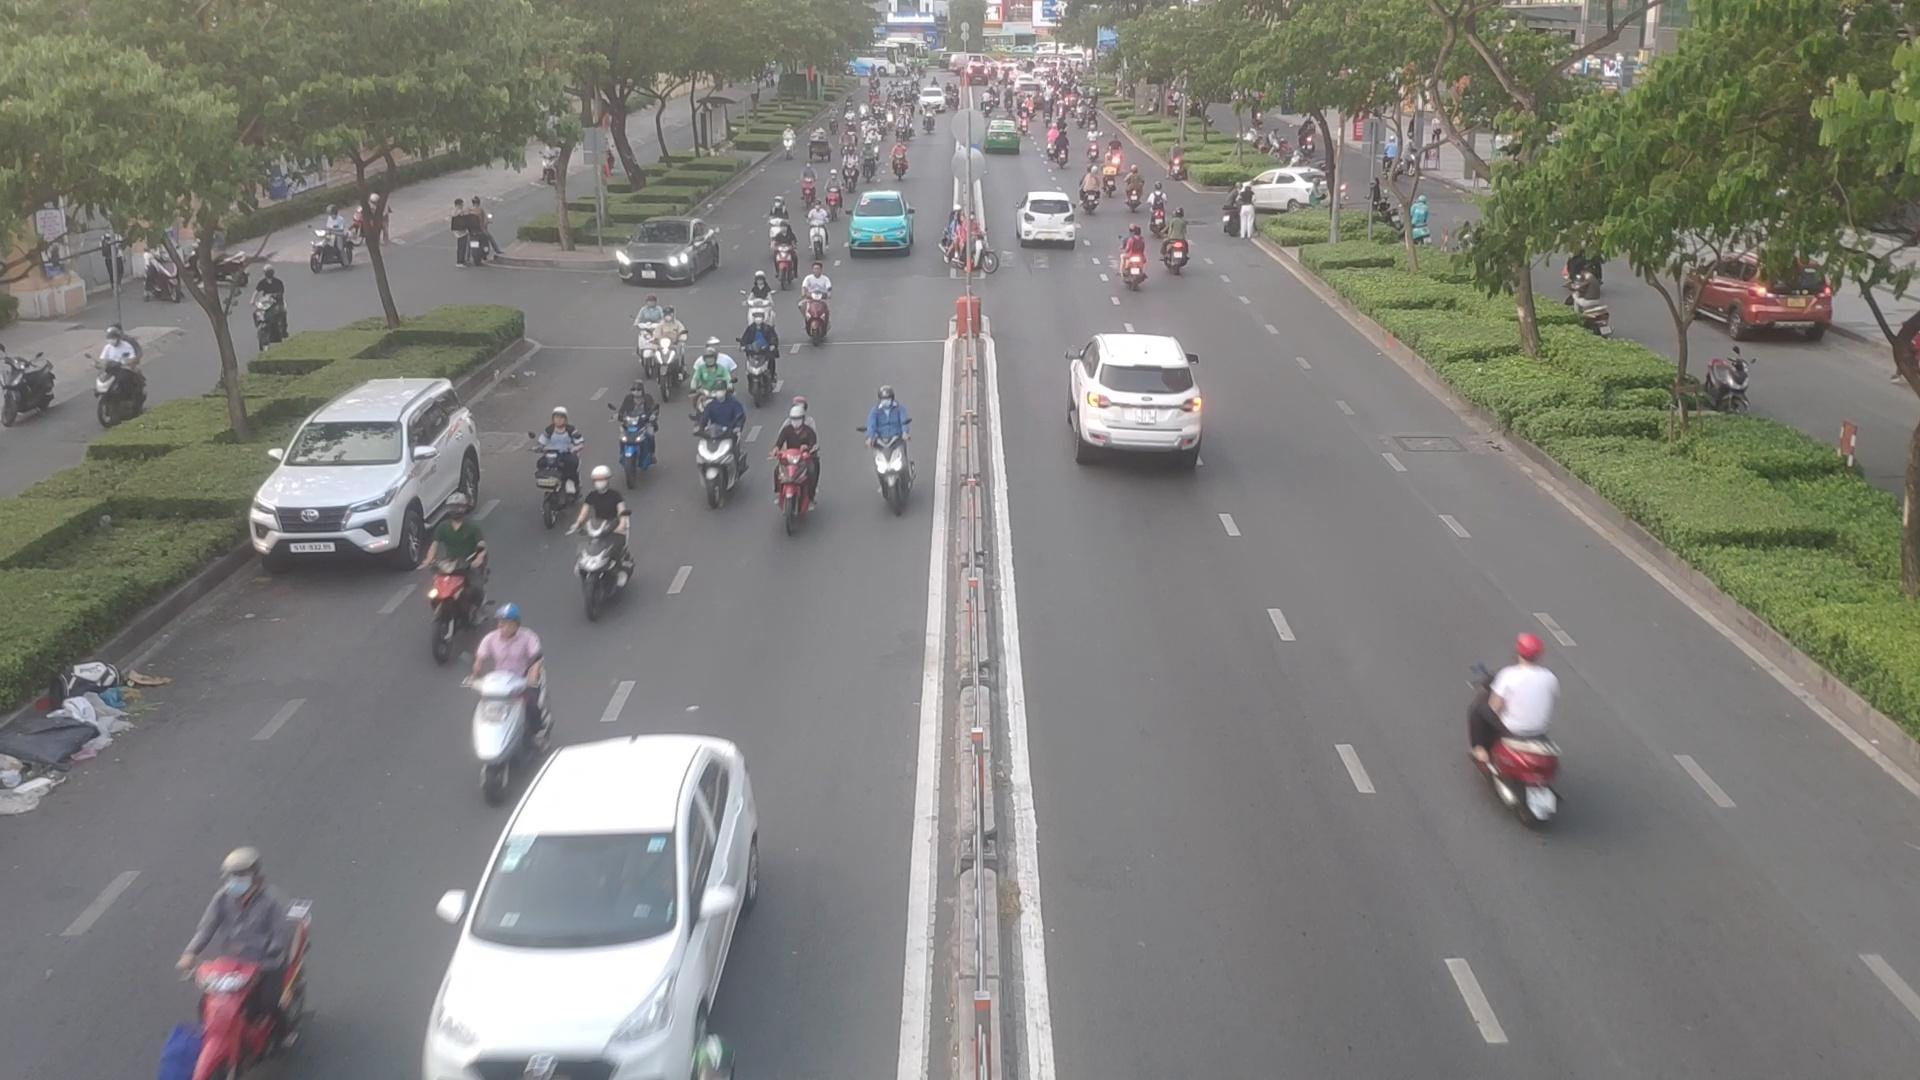car: (425, 737, 761, 1076), (256, 378, 493, 568), (1069, 334, 1207, 456), (618, 219, 727, 287), (843, 189, 910, 261), (1018, 190, 1083, 247)
motorbike: (153, 864, 338, 1080), (1451, 642, 1563, 845), (469, 567, 556, 775), (419, 513, 489, 669), (862, 382, 927, 539), (572, 475, 637, 626), (520, 409, 576, 531), (774, 400, 823, 538), (692, 394, 750, 508), (617, 384, 665, 475), (644, 311, 687, 405), (736, 280, 781, 364), (948, 214, 1002, 278), (696, 332, 735, 423), (626, 293, 662, 369), (808, 276, 841, 353), (1124, 228, 1153, 309), (1164, 203, 1193, 277), (746, 311, 767, 400), (775, 225, 802, 285), (804, 204, 829, 262), (764, 198, 785, 241)
